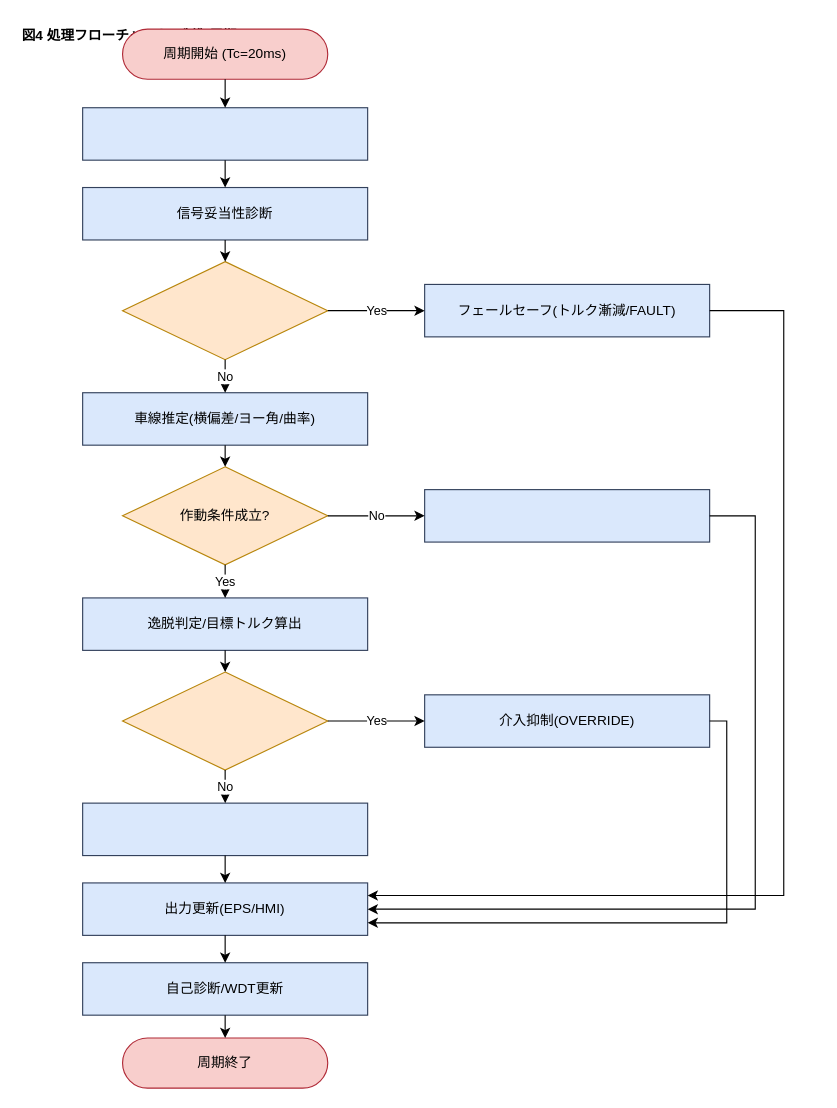
Some shapes in this 837 by 1108 pixel diagram are drawn without their labels. Each missing label, with the box of its shape:
オーバーライド?: (121, 671, 328, 770)
入力取得(センサ/カメラ): (82, 107, 368, 160)
制御停止(STANDBY出力): (424, 488, 710, 542)
故障あり?: (121, 260, 328, 360)
補助トルク指令確定: (82, 802, 368, 856)
